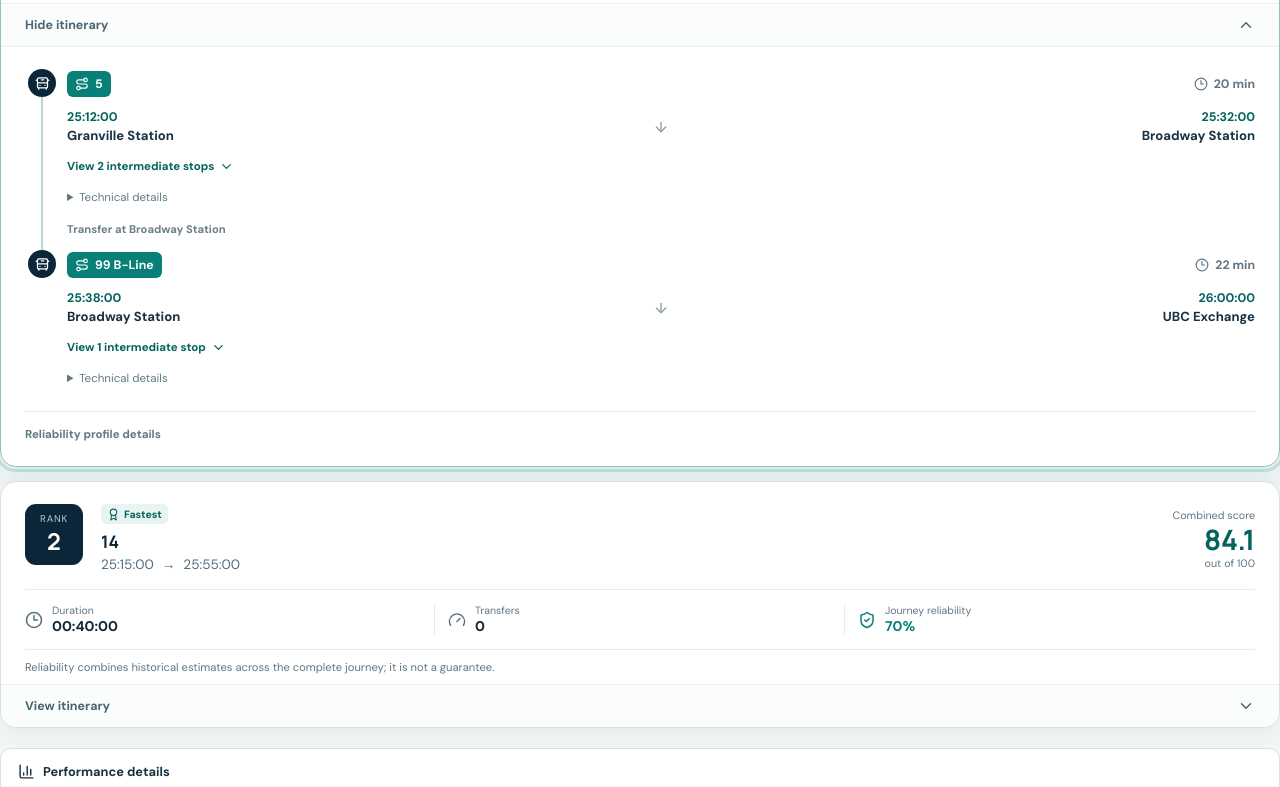
RouteResults › expands non-primary route details with a button
The image size is (1280, 787).
(page scrolled)
Click the button "View itinerary" at {"x": 68, "y": 706}, box [1, 684, 1279, 727]
(page scrolled)
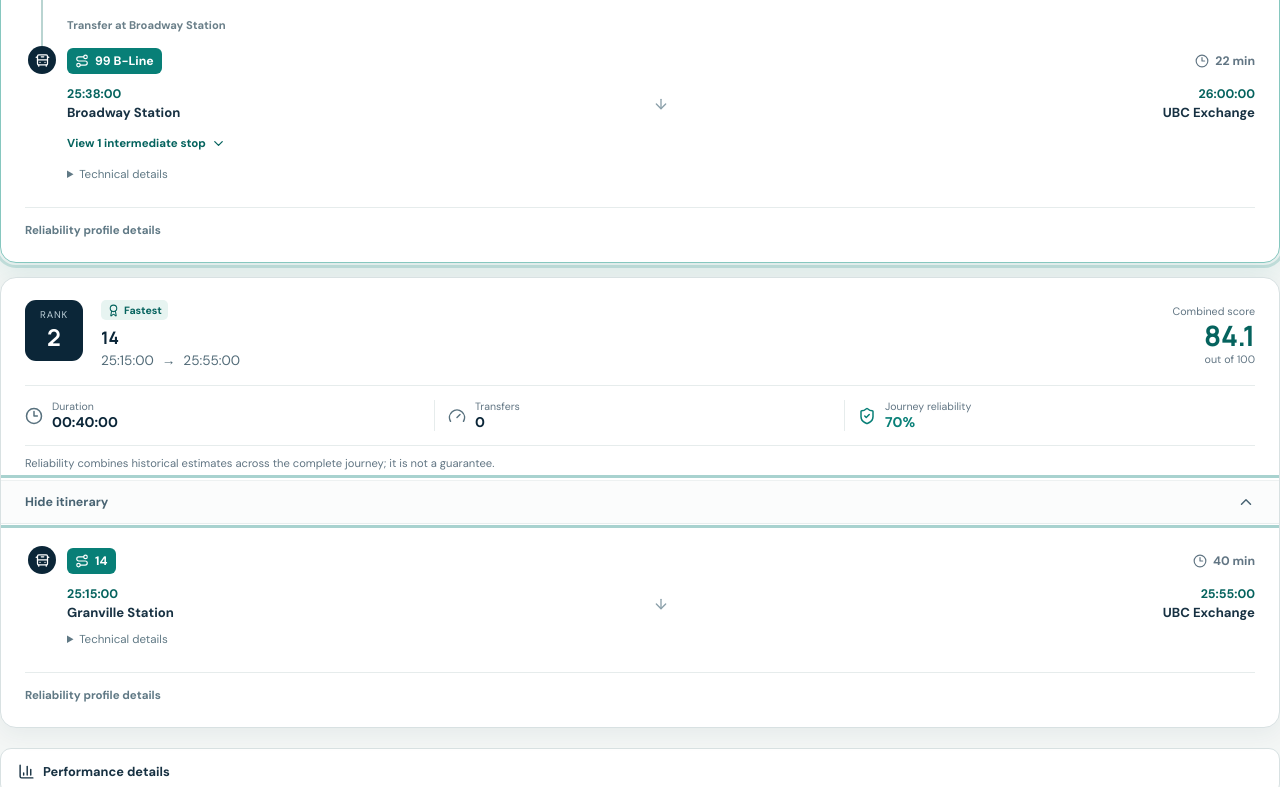
Click the heading "Technical details" below "40 min" at {"x": 123, "y": 640}, box [79, 632, 168, 647]
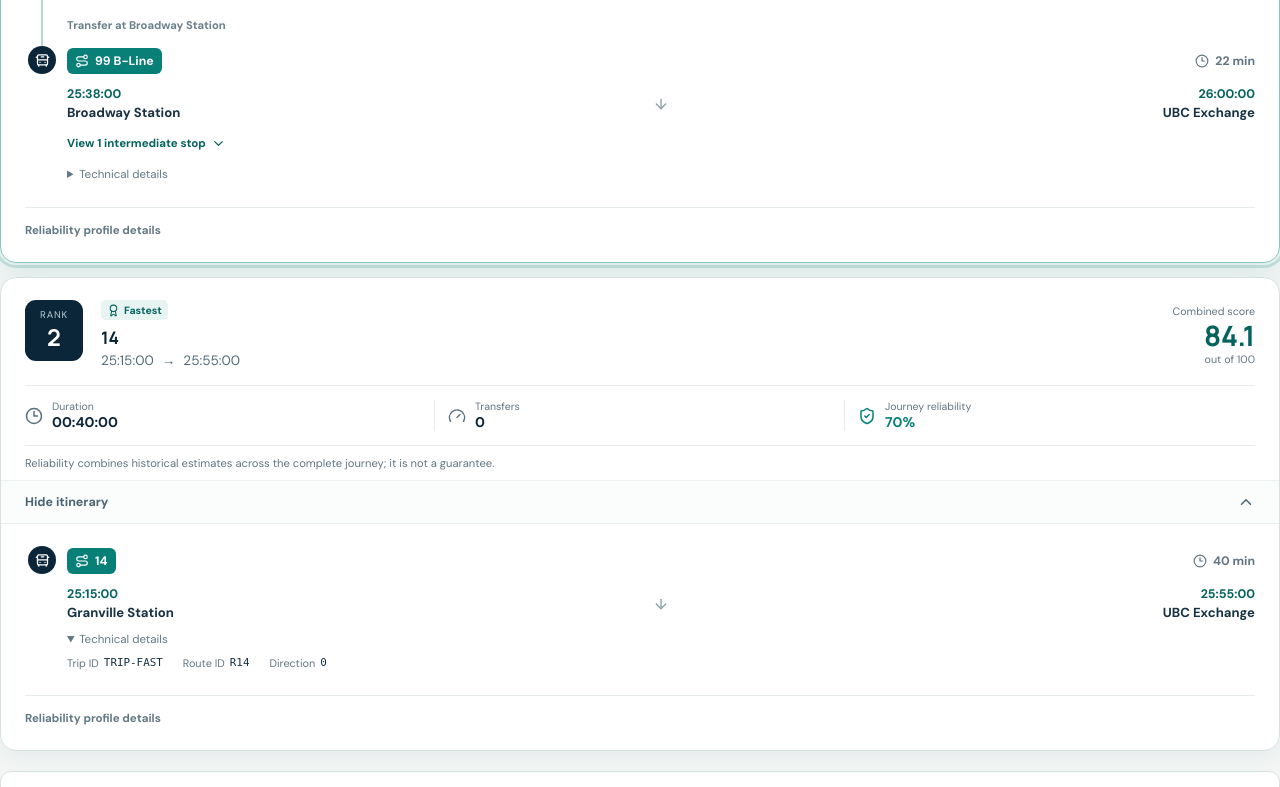
Now the text "TRIP-FAST" is shown, box [104, 656, 163, 670]
